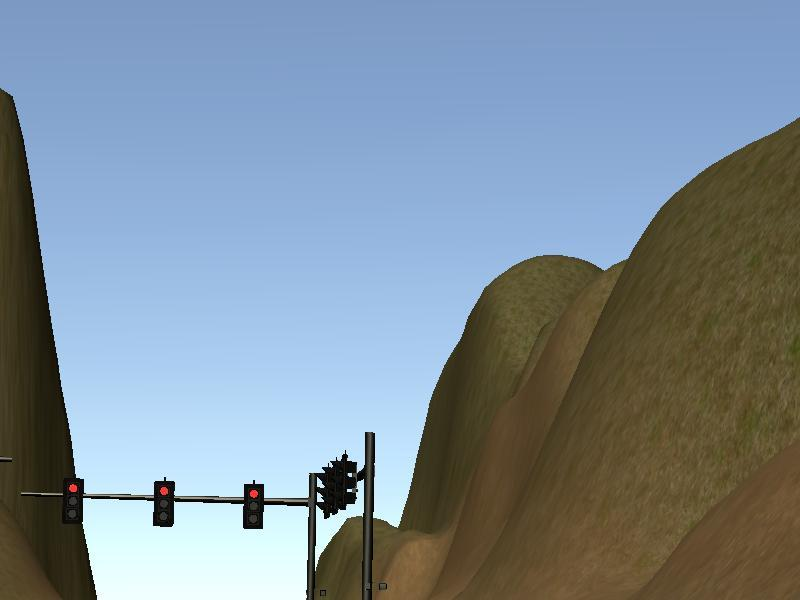Red: (62, 477, 83, 524), (242, 483, 263, 530), (153, 480, 174, 527)
